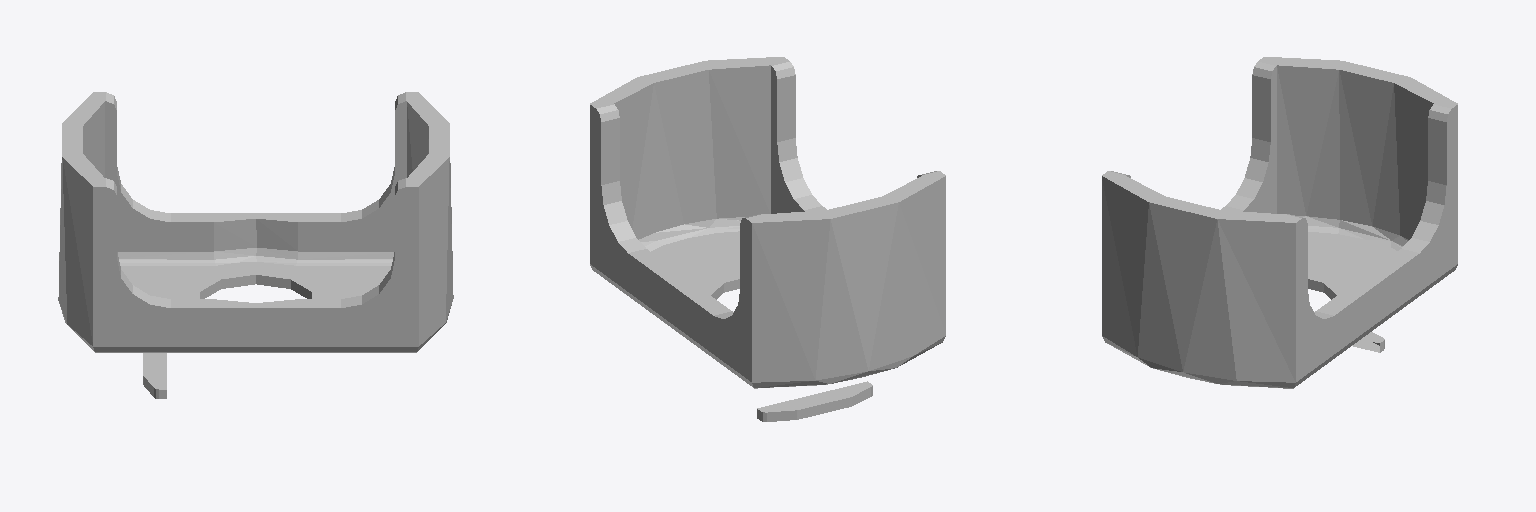
The model's file is platform_6.obj.
3 views of the same model, side by side, from view 1: azimuth 30°, elevation 25°; view 2: azimuth 150°, elevation 25°; view 3: azimuth 270°, elevation 25° (orthographic).
Size of the model in its own units: 0.0738 by 0.048 by 0.0668.